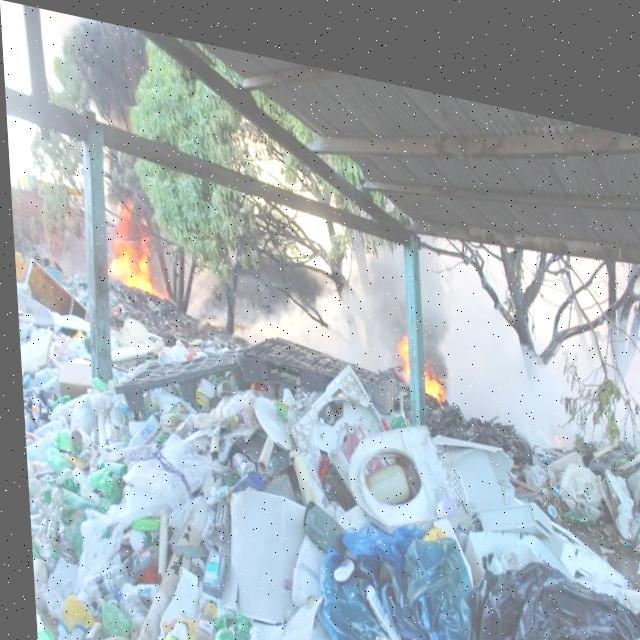Fire: (101, 191, 162, 287), (419, 346, 443, 390), (393, 312, 410, 366)
